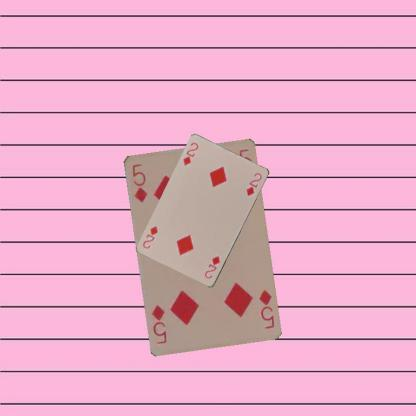2d: (180, 140, 200, 168), (202, 252, 221, 280)
5d: (254, 287, 275, 330), (130, 160, 148, 204)
